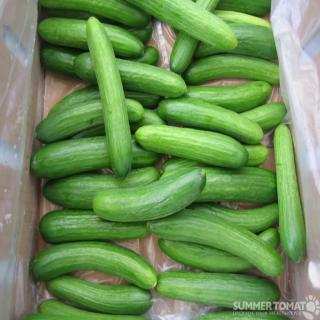Cucumber: (21, 0, 306, 320), (148, 211, 280, 276), (190, 307, 292, 319)
